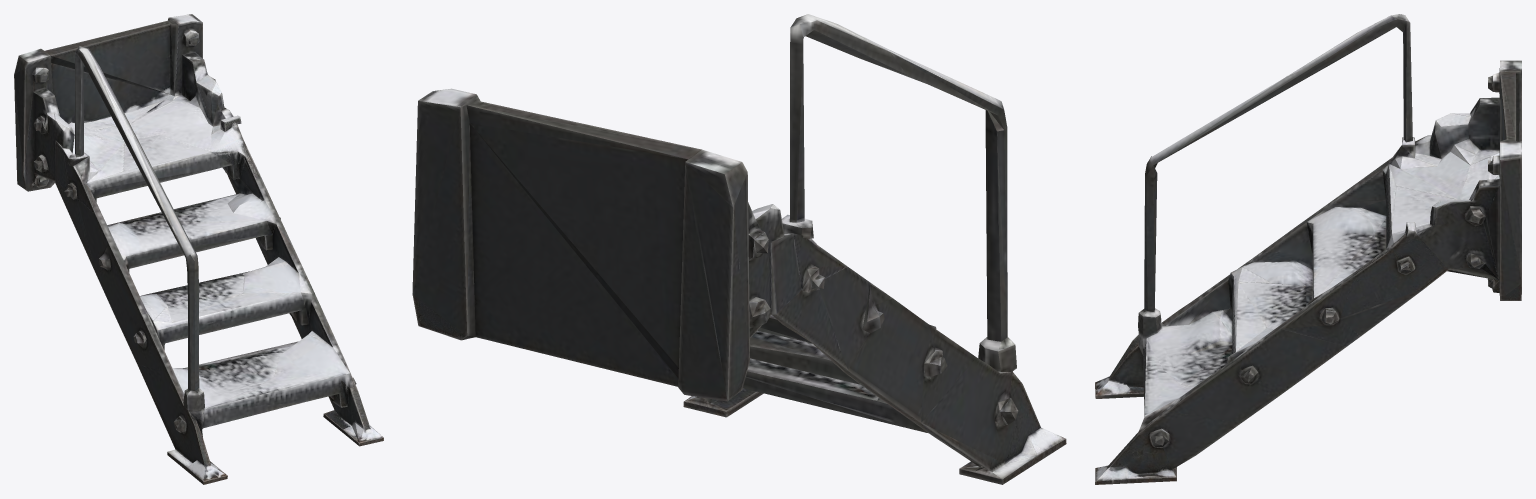
The model's file is trench_steps.glb.
3 views of the same model, side by side, from view 1: azimuth 30°, elevation 25°; view 2: azimuth 150°, elevation 25°; view 3: azimuth 270°, elevation 25° (orthographic). The views are drawn at different scales.
Parts seen in each view (by area): view 1: Mesh_0; view 2: Mesh_0; view 3: Mesh_0.
Part boxes in pixels (x1,y1,x2,y2): Mesh_0: (14, 14, 383, 484); Mesh_0: (412, 14, 1066, 484); Mesh_0: (1095, 14, 1521, 484).
Bounding box in the file's own units: 1.05 × 1.86 × 1.9.
1 material, 1 textured.
